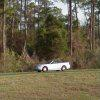Tree: (10, 2, 100, 60)
